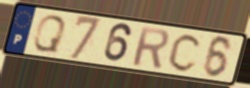6: (200, 35, 236, 80), (102, 22, 132, 65)
7: (70, 14, 104, 62)
C: (166, 32, 204, 74)
Q: (30, 14, 69, 54)
R: (131, 25, 170, 70)
